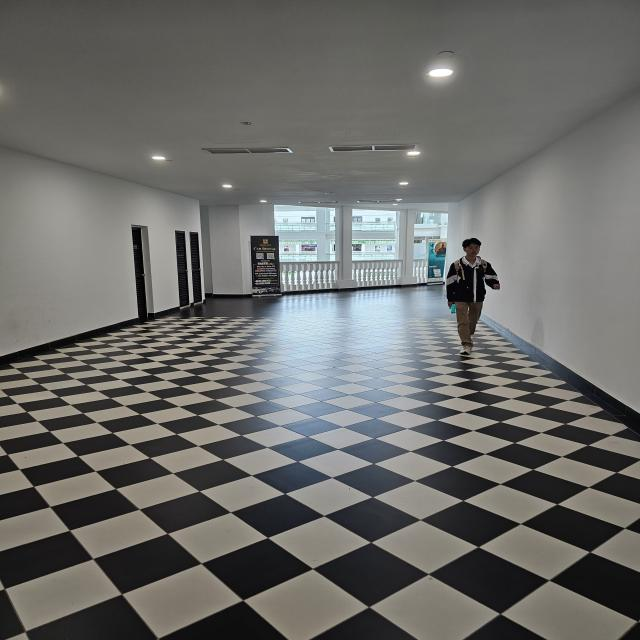footpath: (3, 358, 560, 638)
person: (444, 235, 503, 354)
